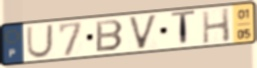7: (56, 20, 84, 58)
B: (95, 19, 126, 54)
H: (200, 7, 232, 45)
T: (170, 9, 198, 48)
U: (25, 23, 55, 60)
V: (127, 12, 160, 51)
